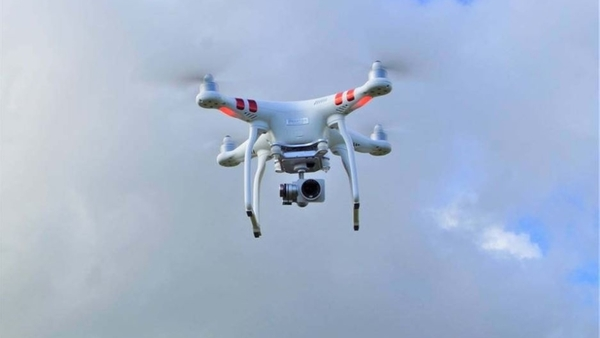drone: (173, 51, 411, 241)
